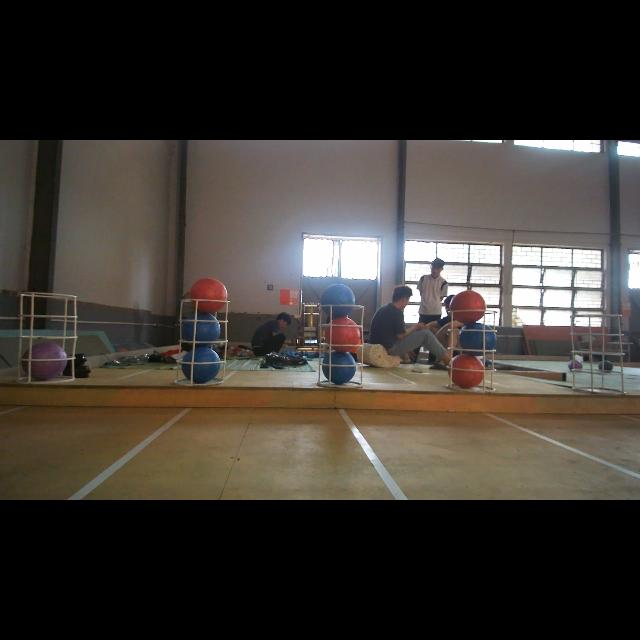B: (182, 348, 222, 384), (182, 314, 220, 346), (459, 322, 496, 354), (321, 284, 355, 318), (322, 352, 356, 384)
R: (324, 316, 361, 352), (448, 354, 484, 390), (190, 278, 227, 312), (450, 290, 486, 322)
